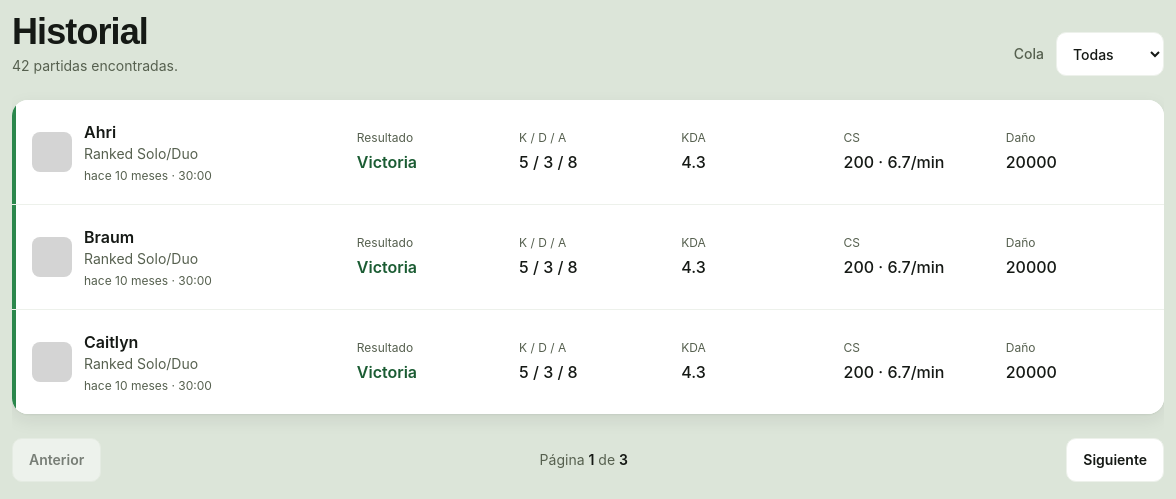
MatchesView › pagination › requests page 2 and shows it when Siguiente is clicked
Click the button "Siguiente". click: (1115, 460)
box: [1066, 438, 1164, 482]
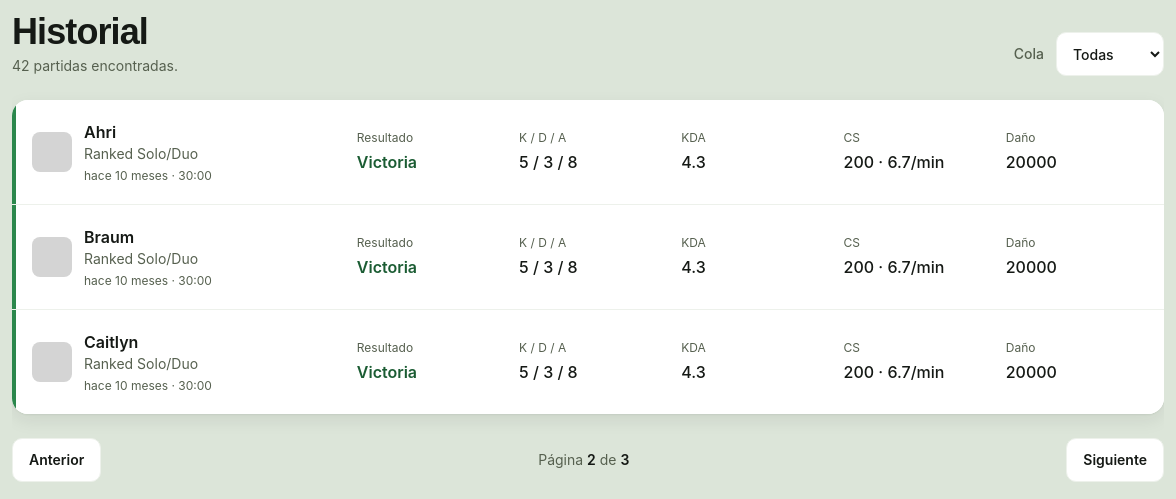
Check: the navigation bar shows "Página 2 de 3", box [12, 438, 1164, 482]
